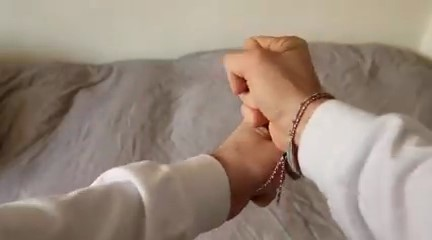G: (212, 27, 336, 225)
